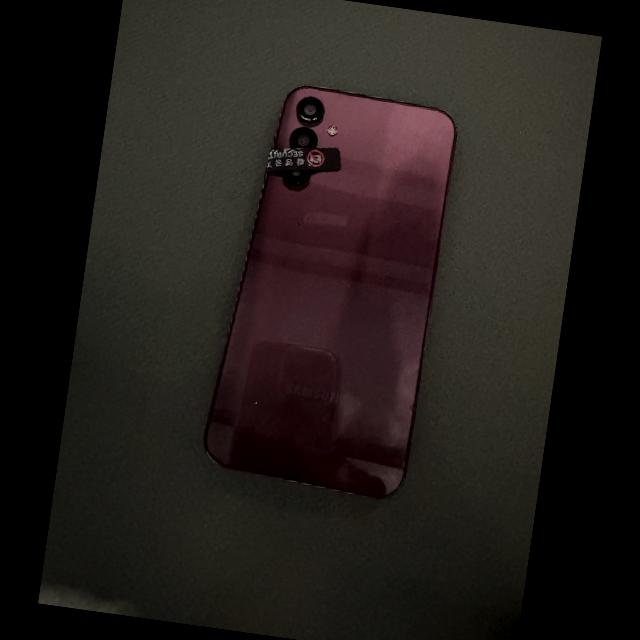lens: (299, 99, 322, 123), (292, 129, 316, 150)
phone: (204, 86, 457, 499)
sticker: (262, 149, 340, 175)
